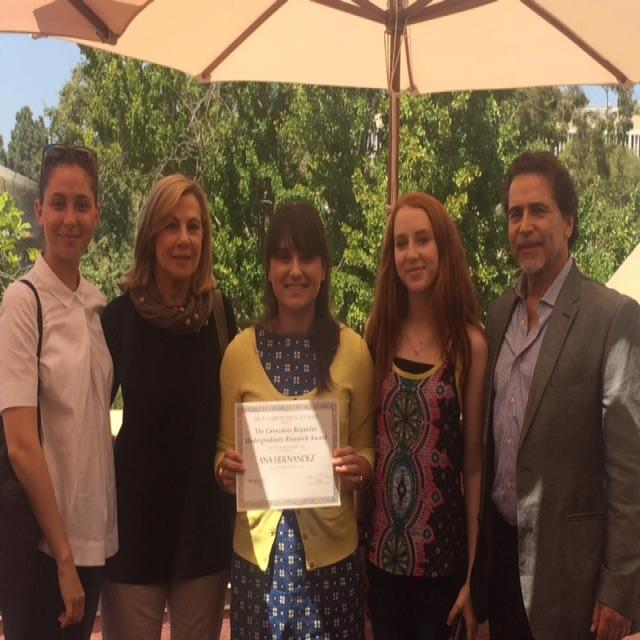body: (465, 146, 639, 638), (209, 192, 382, 639), (94, 172, 240, 639), (353, 189, 490, 639), (0, 138, 120, 640)
